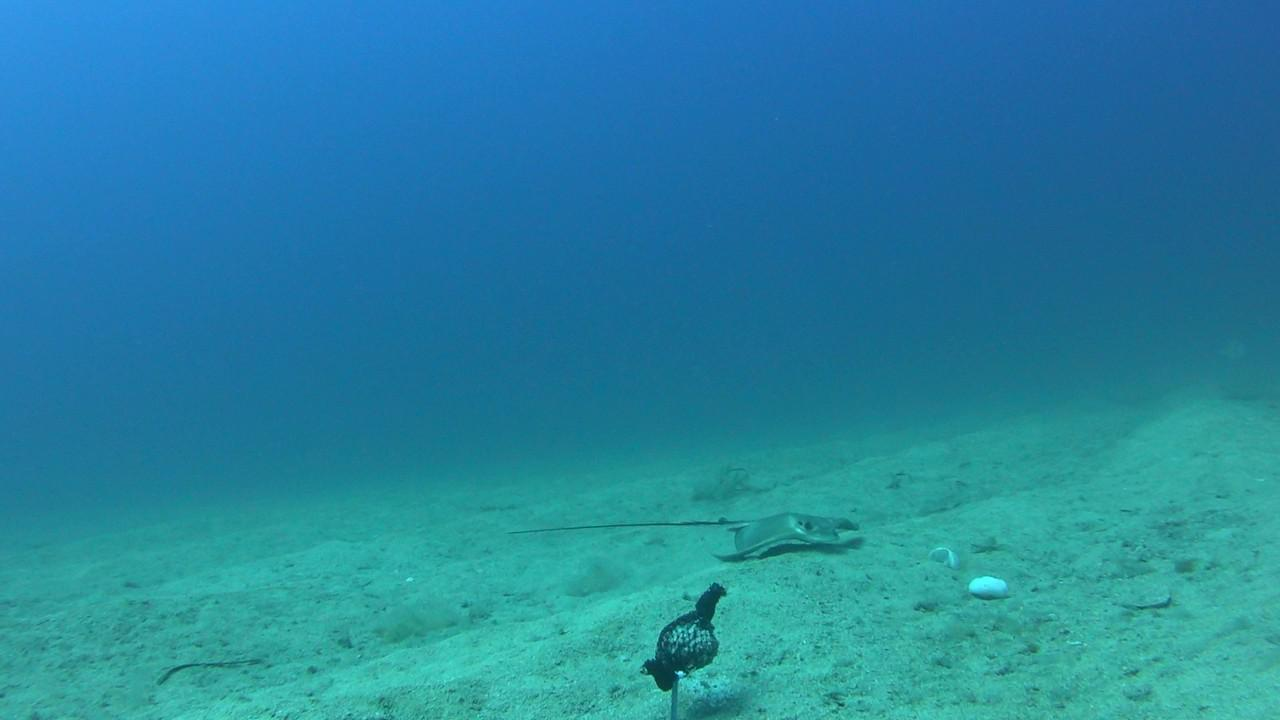myliobatis: (490, 507, 869, 567)
